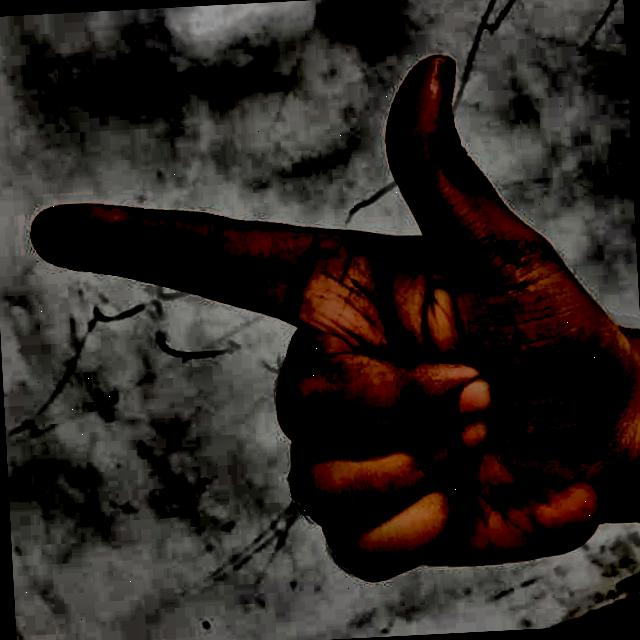Tha: (9, 15, 626, 618)
